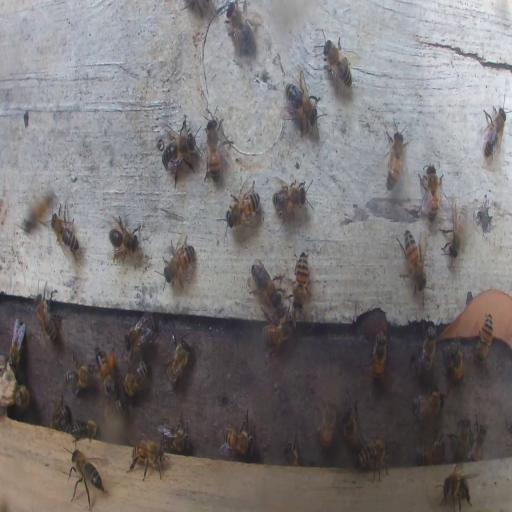bee: (158, 118, 200, 181), (282, 72, 323, 134), (163, 232, 196, 292), (321, 32, 355, 90), (68, 447, 104, 501), (435, 465, 473, 511), (441, 200, 469, 260), (480, 104, 508, 164), (400, 230, 426, 293), (226, 4, 257, 56), (263, 306, 296, 354), (412, 319, 438, 379), (108, 212, 140, 260), (272, 178, 310, 218), (164, 331, 191, 386), (128, 439, 167, 477), (34, 292, 60, 348), (51, 207, 79, 258), (357, 435, 388, 481), (227, 185, 260, 227), (418, 166, 444, 219), (250, 262, 281, 305), (220, 421, 256, 457), (124, 313, 156, 353), (204, 117, 222, 182), (386, 128, 405, 189), (65, 354, 93, 394), (412, 388, 446, 420), (340, 402, 363, 449), (95, 348, 116, 399), (159, 420, 191, 453), (122, 358, 148, 398), (23, 196, 51, 233), (317, 399, 337, 449), (369, 331, 387, 383), (476, 314, 494, 364), (8, 318, 24, 372), (444, 342, 464, 384), (294, 251, 310, 303), (416, 439, 445, 465), (468, 422, 486, 461), (53, 399, 71, 431), (72, 420, 97, 440), (457, 418, 470, 454), (11, 382, 29, 407), (282, 438, 298, 466)
